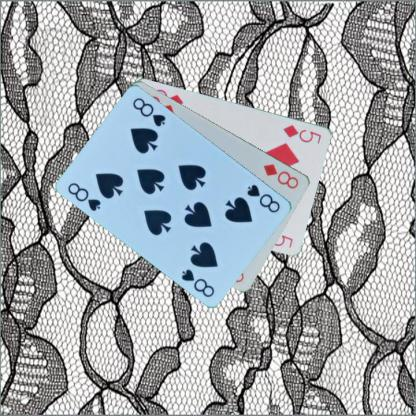5d: (281, 122, 323, 145)
8d: (260, 161, 300, 190)
8s: (244, 181, 282, 214), (65, 180, 103, 212)
